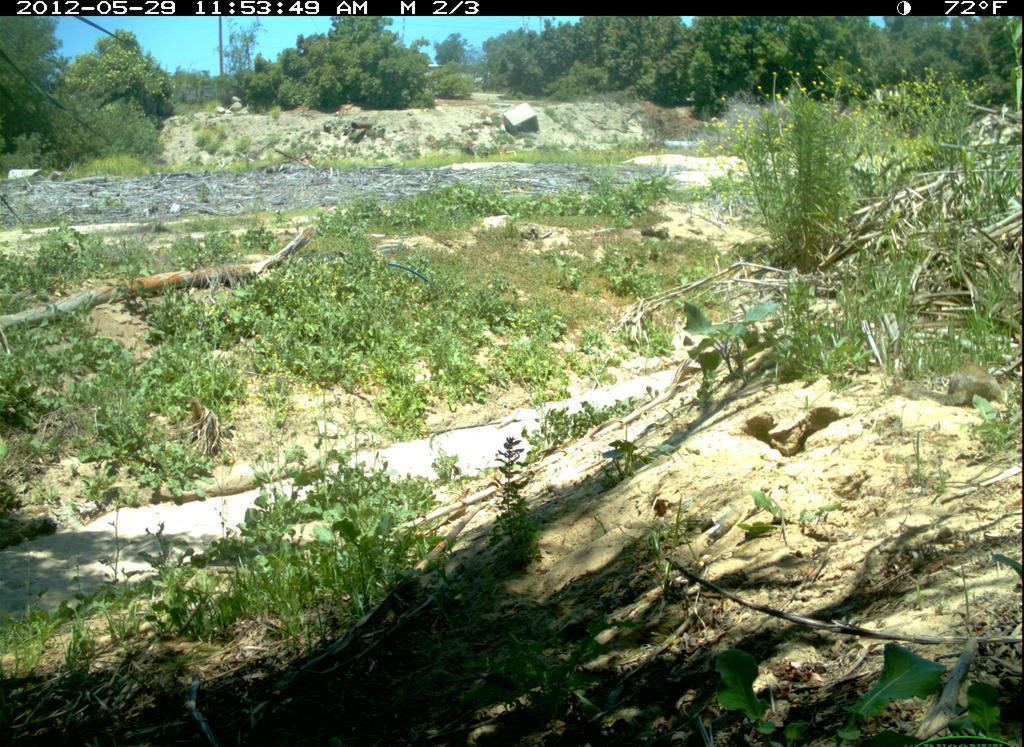squirrel: (918, 351, 1012, 420)
